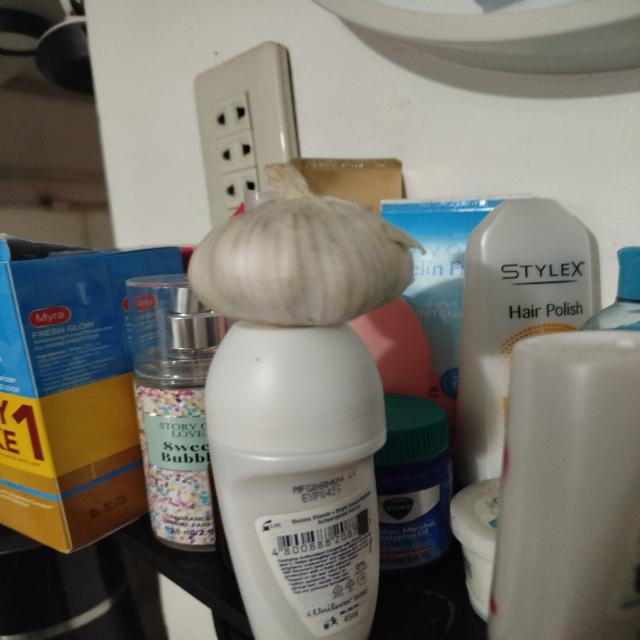garlic: (156, 146, 444, 345)
